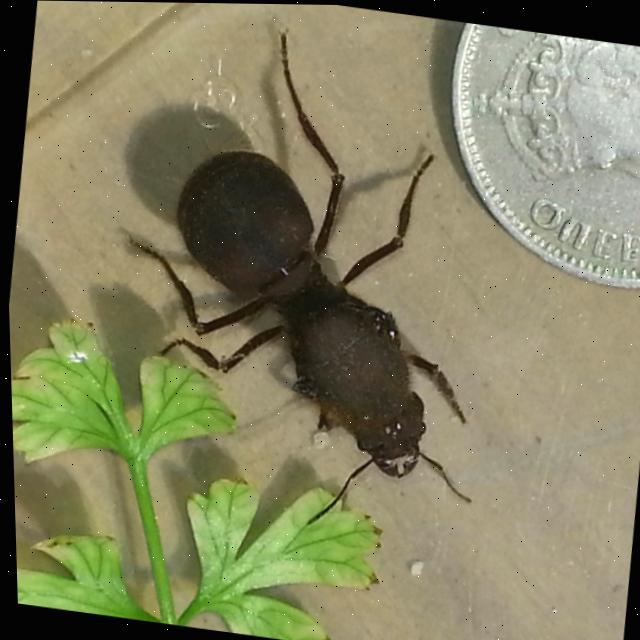Alive-Female-Dealate: (88, 7, 525, 546)
